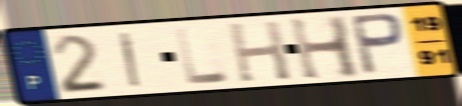2: (50, 32, 109, 96)
H: (287, 14, 364, 82), (225, 18, 294, 84)
I: (116, 30, 143, 90)
L: (173, 25, 233, 87)
P: (348, 11, 407, 76)
